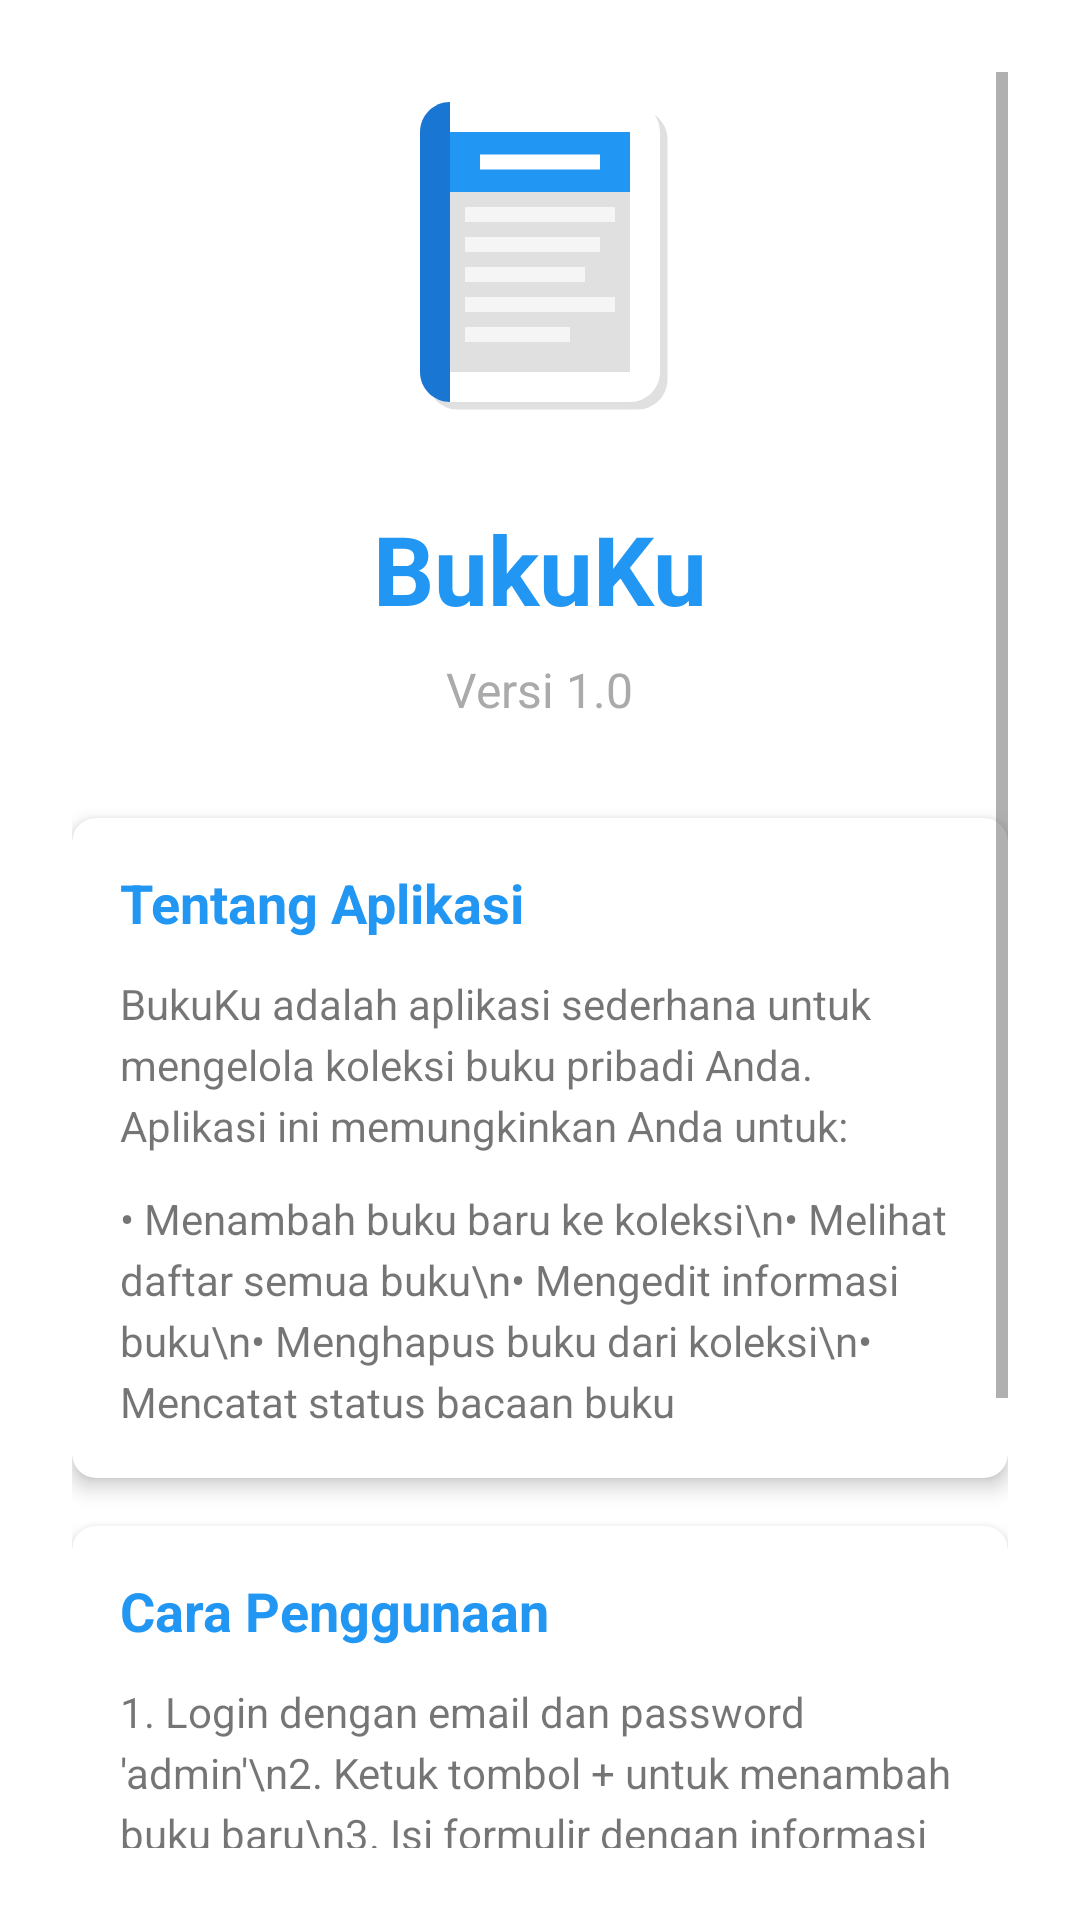

Named icons in this screenshot (1080 x 1920) and their centers, point (x, y):
book: point (543, 255)
